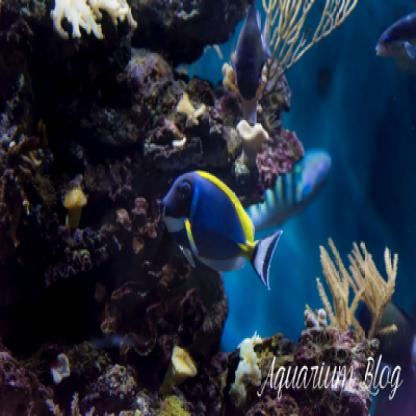Acanthuridae -Surgeonfishes-: (159, 169, 285, 300)
